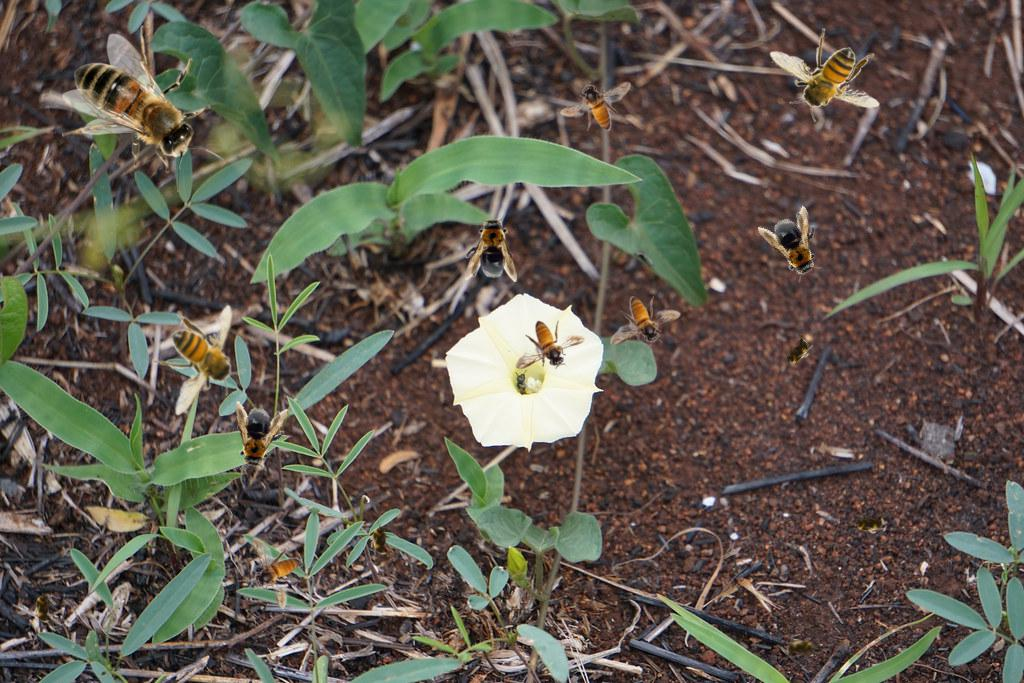Bee: (62, 25, 224, 192), (769, 28, 880, 122), (152, 305, 246, 416), (757, 203, 835, 289), (228, 401, 288, 475), (251, 538, 301, 609), (560, 81, 631, 131), (610, 296, 681, 346), (515, 320, 586, 370), (465, 214, 517, 282), (774, 330, 820, 374), (781, 638, 821, 660), (849, 512, 889, 534), (370, 520, 392, 560), (33, 588, 55, 628)
